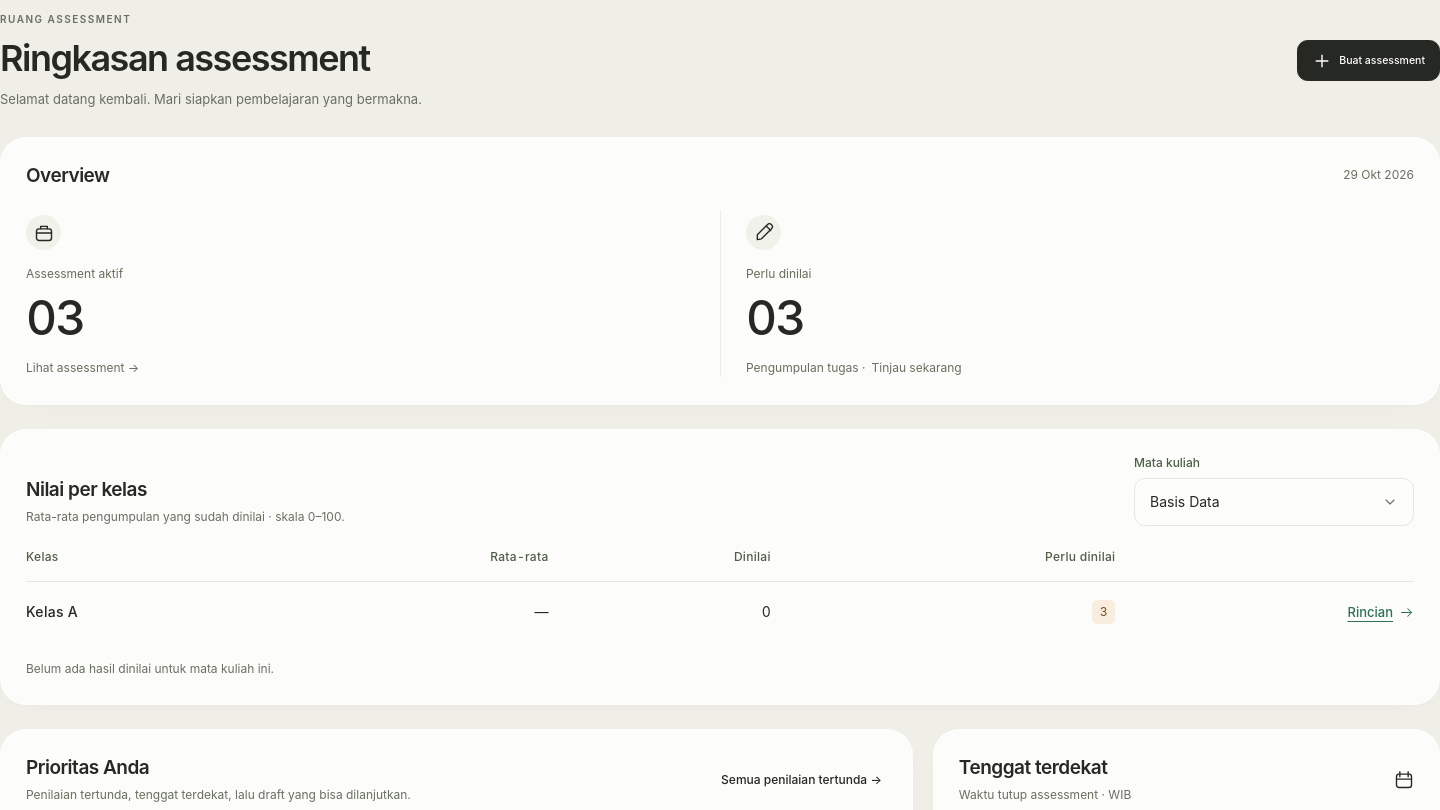
Test: teacher grading priorities › shows direct grading work ahead of deadlines and drafts and opens the pending-only queue
Click the link "Tinjau sekarang" at (917, 368), box [872,359,962,377]
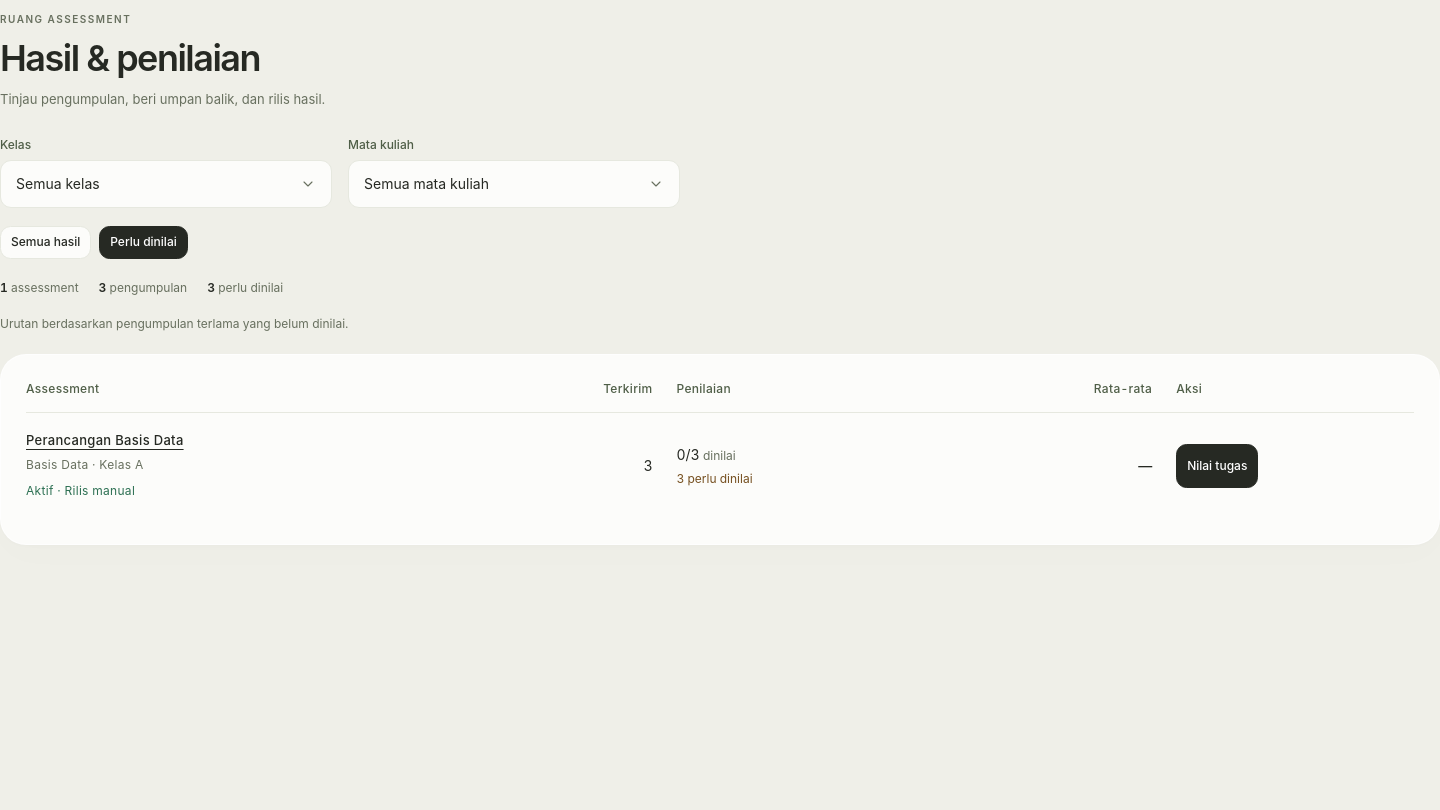
Check: the number of rows with class "result-register-row" is 1, box [26,413,1414,519]
Check: the row with class "result-register-row" shows "Perancangan Basis Data", box [26,431,486,451]
